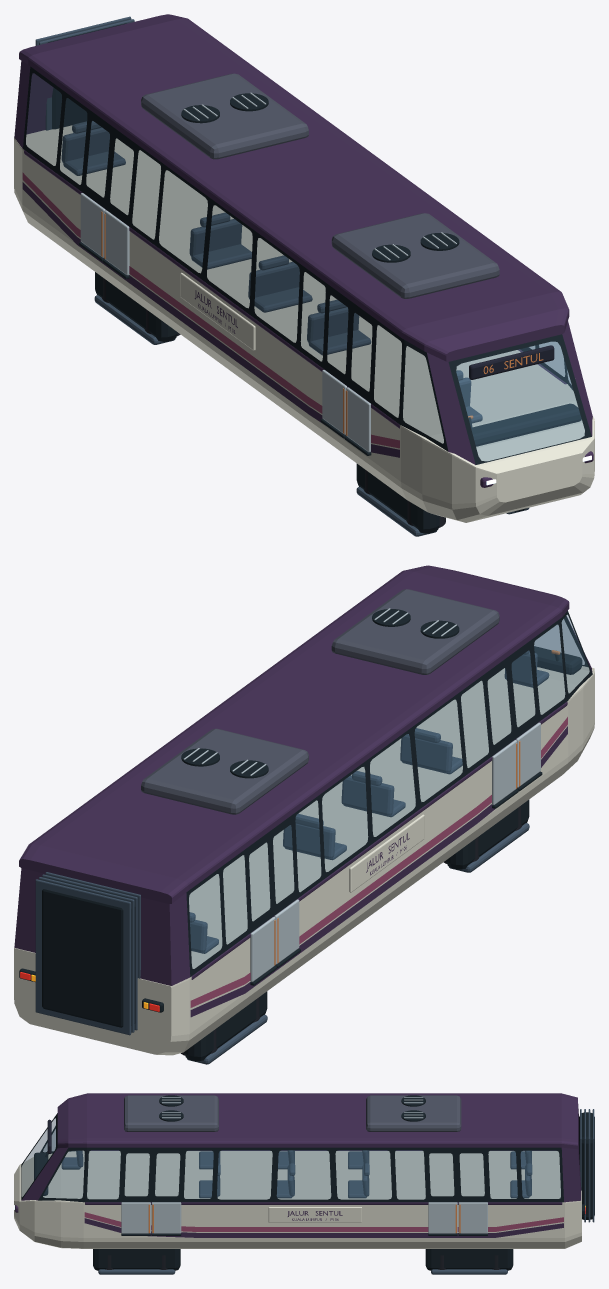
3 renders of one model, top to bottom at view 1: azimuth 30°, elevation 25°; view 2: azimuth 150°, elevation 25°; view 3: azimuth 270°, elevation 25°, orthographic. The views are drawn at different scales.
Visible parts, largest first — view 1: Sentul Straddle Car; view 2: Sentul Straddle Car; view 3: Sentul Straddle Car.
Boxes of the visible parts, x1=… form: Sentul Straddle Car: x1=14, y1=14, x2=594, y2=536; Sentul Straddle Car: x1=14, y1=565, x2=594, y2=1064; Sentul Straddle Car: x1=14, y1=1093, x2=594, y2=1274.
Size of the model in its own units: 2.75 by 3.54 by 12.4.
